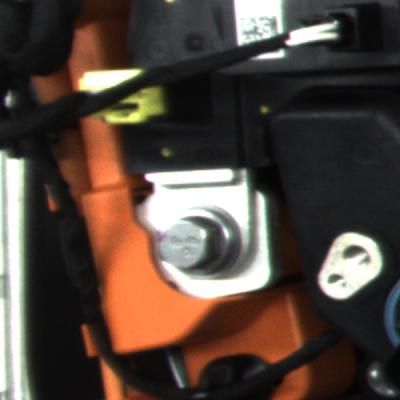nut_b: (141, 195, 256, 292)
